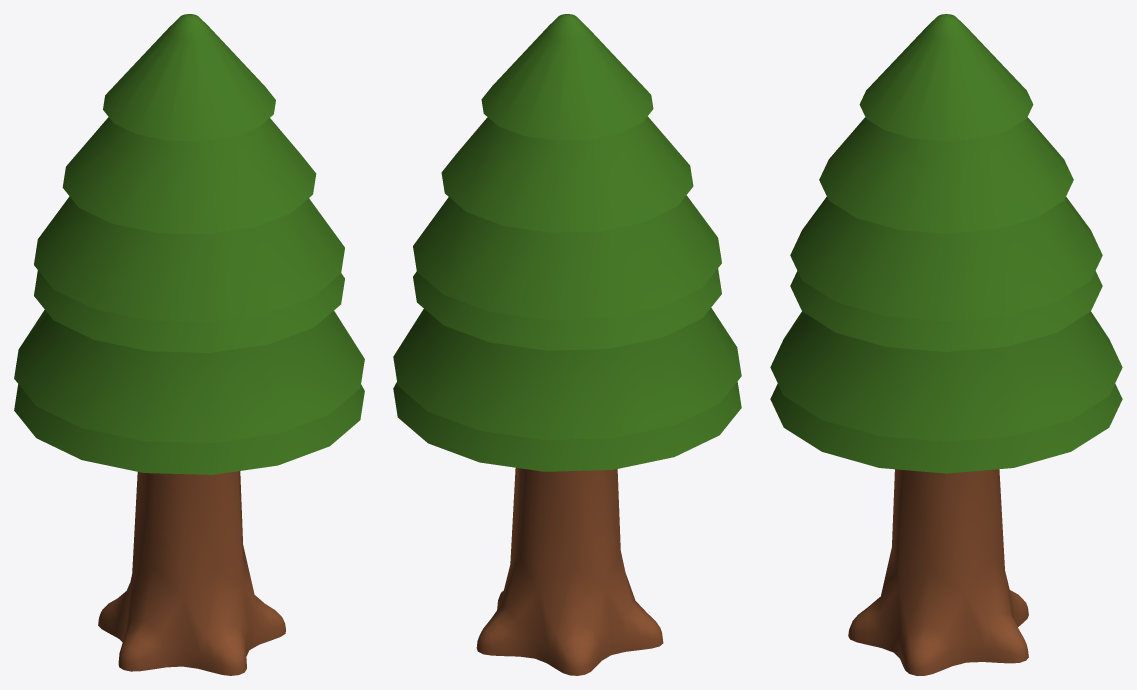
File: fbx_treePointy.fbx
The picture shows the model from 3 angles, left to right: view 1: azimuth 30°, elevation 25°; view 2: azimuth 150°, elevation 25°; view 3: azimuth 270°, elevation 25°; orthographic projection.
Parts seen in each view (by area): view 1: Cone.001, Cone.003, Cylinder, Cone.005, Cone.006, Cone, Cone.002; view 2: Cone.001, Cone.003, Cylinder, Cone.005, Cone.006, Cone, Cone.002; view 3: Cone.001, Cone.003, Cylinder, Cone.005, Cone.006, Cone, Cone.002.
Part boxes in pixels (box(x1,y1,x2,y2)): Cone.001: box(14, 310, 364, 442); Cone.003: box(34, 196, 344, 321); Cylinder: box(98, 471, 285, 675); Cone.005: box(62, 117, 316, 234); Cone.006: box(103, 14, 275, 141); Cone: box(14, 384, 364, 474); Cone.002: box(34, 270, 344, 352); Cone.001: box(393, 308, 741, 439); Cone.003: box(413, 195, 721, 319); Cylinder: box(476, 467, 663, 675); Cone.005: box(441, 116, 693, 232); Cone.006: box(481, 14, 653, 140); Cone: box(393, 381, 741, 471); Cone.002: box(413, 269, 721, 350); Cone.001: box(770, 311, 1122, 441); Cone.003: box(790, 197, 1102, 321); Cylinder: box(848, 469, 1028, 675); Cone.005: box(819, 117, 1073, 233); Cone.006: box(859, 14, 1033, 141); Cone: box(770, 383, 1122, 473); Cone.002: box(790, 271, 1102, 351).
Bounding box in the file's own units: 423 × 824 × 423.
